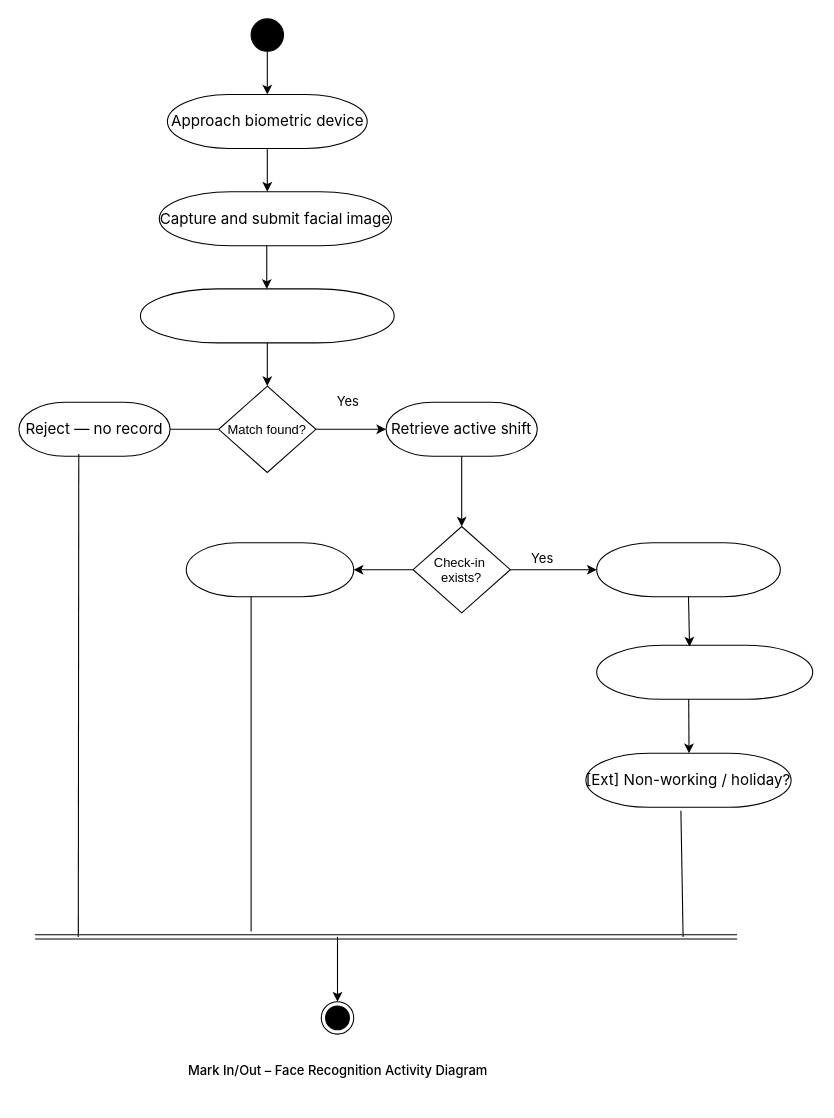
Image size: 834x1118. Some labels were removed from this diagram. Each missing label, with the box of its shape:
Create check-in record: (185, 542, 354, 597)
Create check-out + hours: (596, 542, 780, 597)
Evaluate lateness & early leave: (596, 644, 813, 699)
Match against registered face data: (139, 288, 394, 343)
